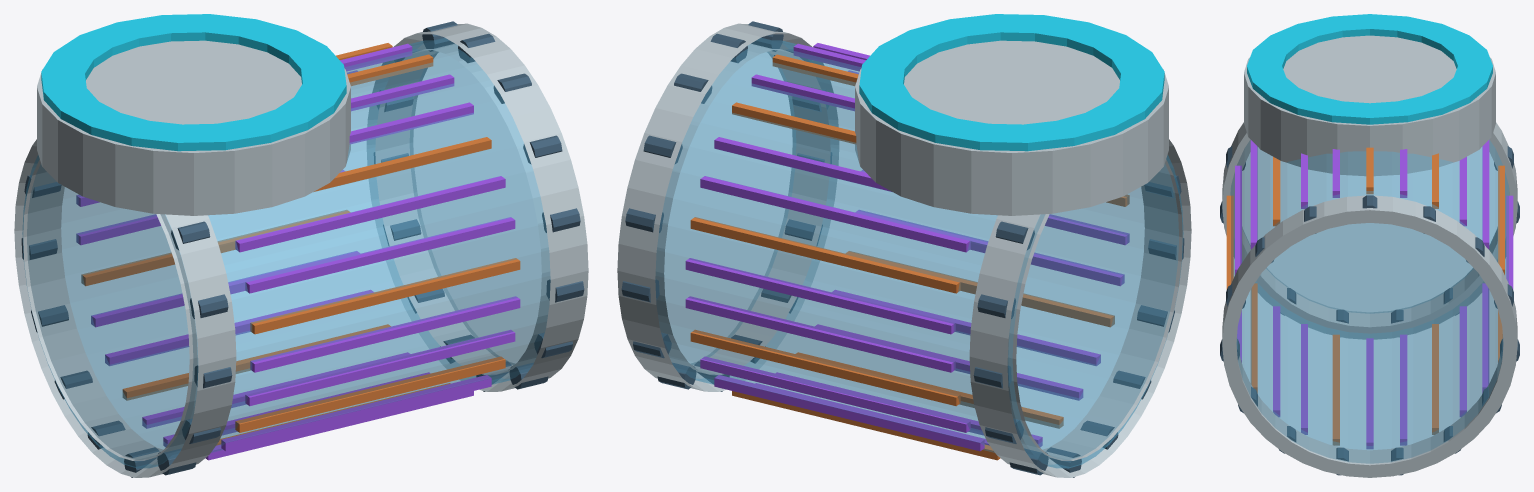
Rendered from 04_L75_IonSourcePlasmaChamber.fbx.
3 views of the same model, side by side, from view 1: azimuth 30°, elevation 25°; view 2: azimuth 150°, elevation 25°; view 3: azimuth 270°, elevation 25° (orthographic). The views are drawn at different scales.
Visible parts, largest first — view 1: IonSourcePlasmaChamber, IonSourcePlasmaChamber_Part_0033, IonSourcePlasmaChamber_Part_0034; view 2: IonSourcePlasmaChamber, IonSourcePlasmaChamber_Part_0033, IonSourcePlasmaChamber_Part_0034; view 3: IonSourcePlasmaChamber, IonSourcePlasmaChamber_Part_0033, IonSourcePlasmaChamber_Part_0034.
Boxes of the visible parts, x1,y1,x2,y2 form: IonSourcePlasmaChamber: [14, 21, 588, 477]; IonSourcePlasmaChamber_Part_0033: [37, 40, 350, 215]; IonSourcePlasmaChamber_Part_0034: [41, 14, 346, 151]; IonSourcePlasmaChamber: [617, 21, 1191, 477]; IonSourcePlasmaChamber_Part_0033: [855, 40, 1168, 215]; IonSourcePlasmaChamber_Part_0034: [859, 14, 1164, 151]; IonSourcePlasmaChamber: [1220, 122, 1519, 477]; IonSourcePlasmaChamber_Part_0033: [1244, 35, 1495, 176]; IonSourcePlasmaChamber_Part_0034: [1247, 14, 1492, 124].
Bounding box in the file's own units: 139 × 110 × 102.
